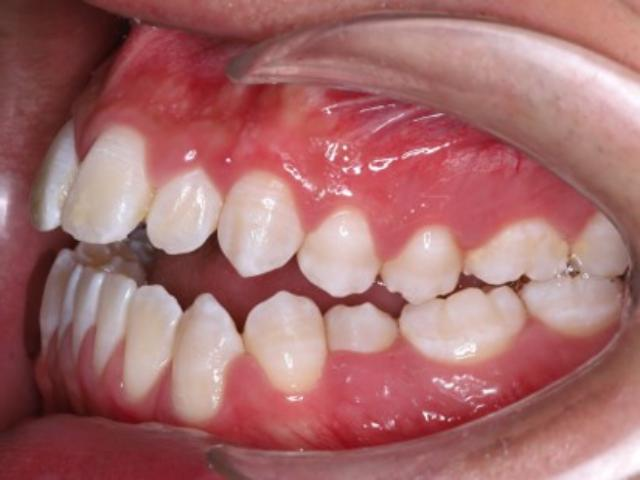canine class I: (168, 166, 324, 430)
molar class III 3/4: (400, 214, 580, 390)
